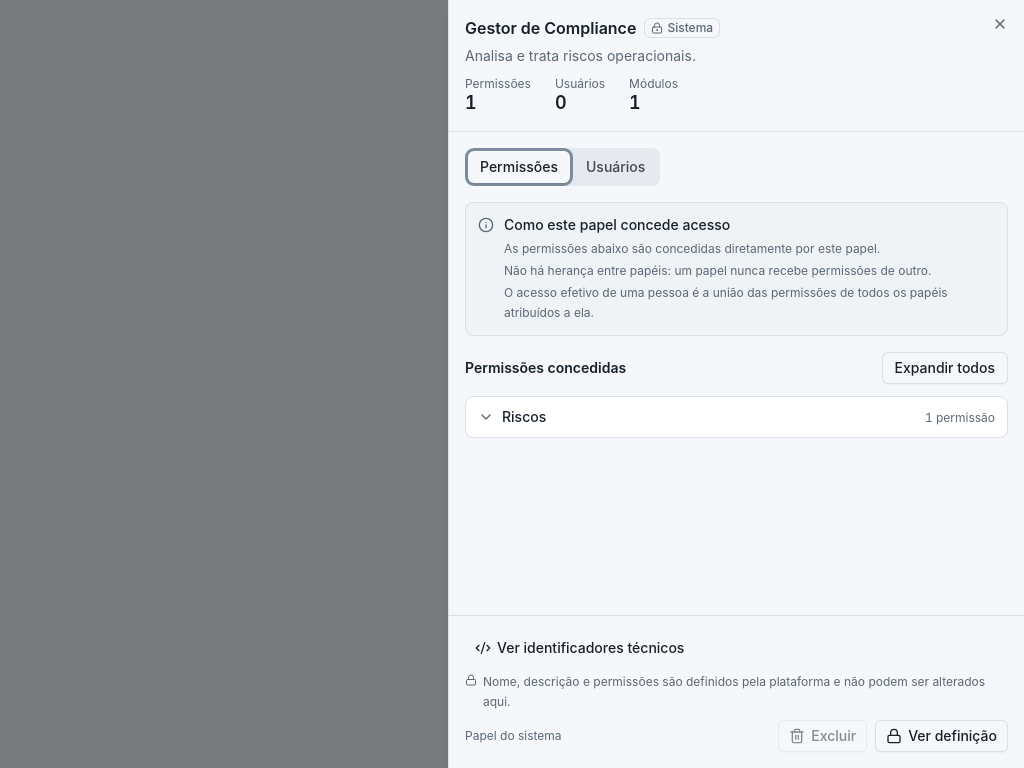
RoleDetailPanel — the role name, and the stored name behind it › reveals the stored Role.name with "Ver identificadores técnicos", and hides it again
Check: the text "Compliance Manager" is not shown
Click the button "Ver identificadores técnicos": {"x": 580, "y": 648} [465,632,694,664]
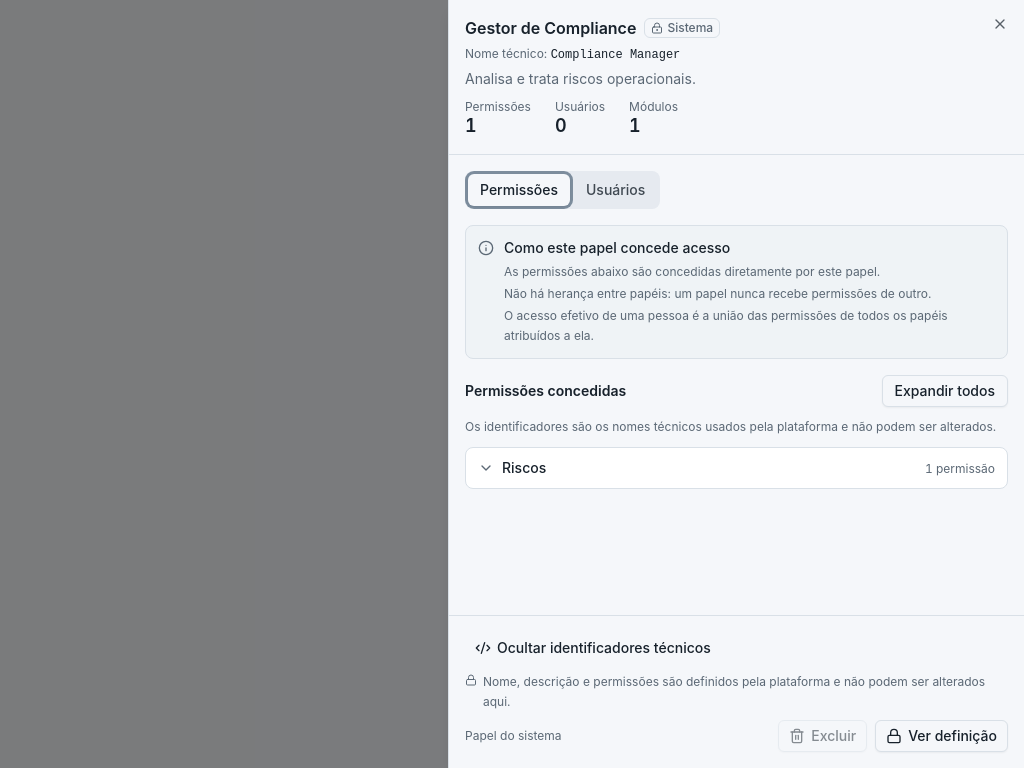
Check: the heading "Gestor de Compliance" is shown, box [465,16,636,40]
Check: the text "Nome técnico:" is shown, box [465,46,551,61]
Check: the text "Compliance Manager" is shown, box [551,48,680,62]
Click the button "Ocultar identificadores técnicos": {"x": 593, "y": 648} [465,632,721,664]
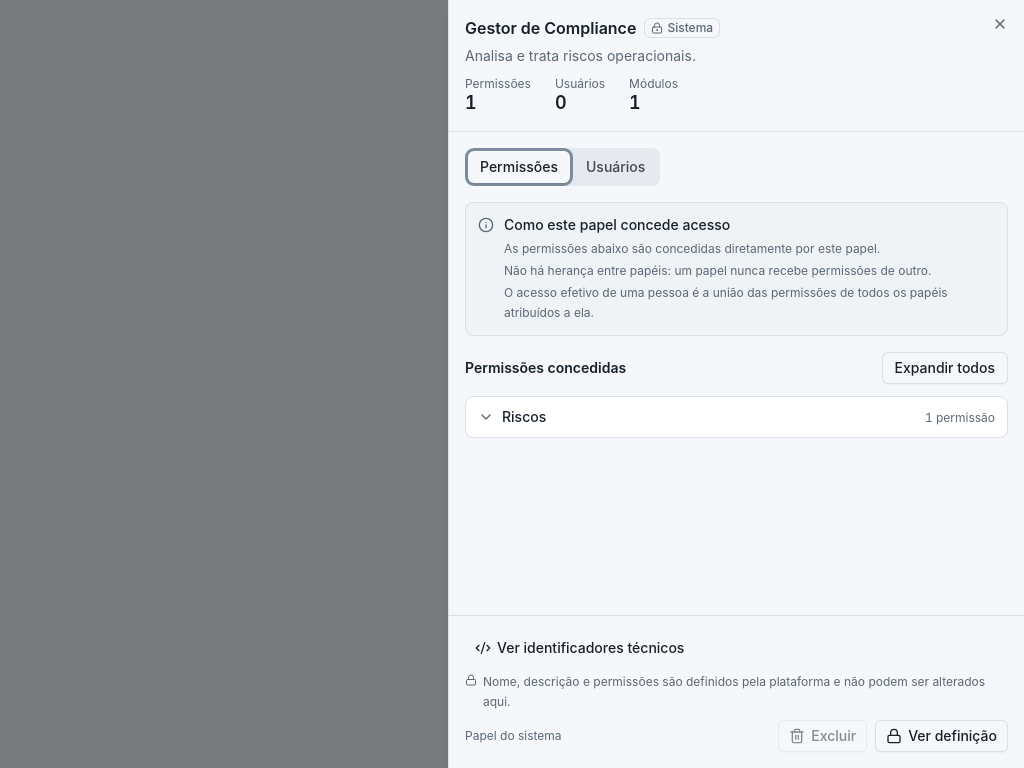
Check: the text "Compliance Manager" is gone
